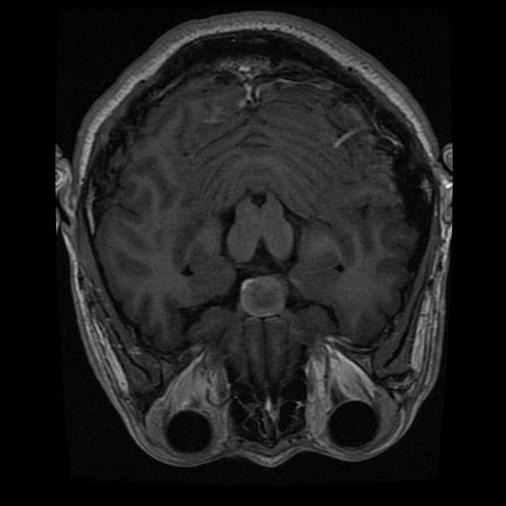Tumour-Pituitary: (237, 271, 290, 321)
